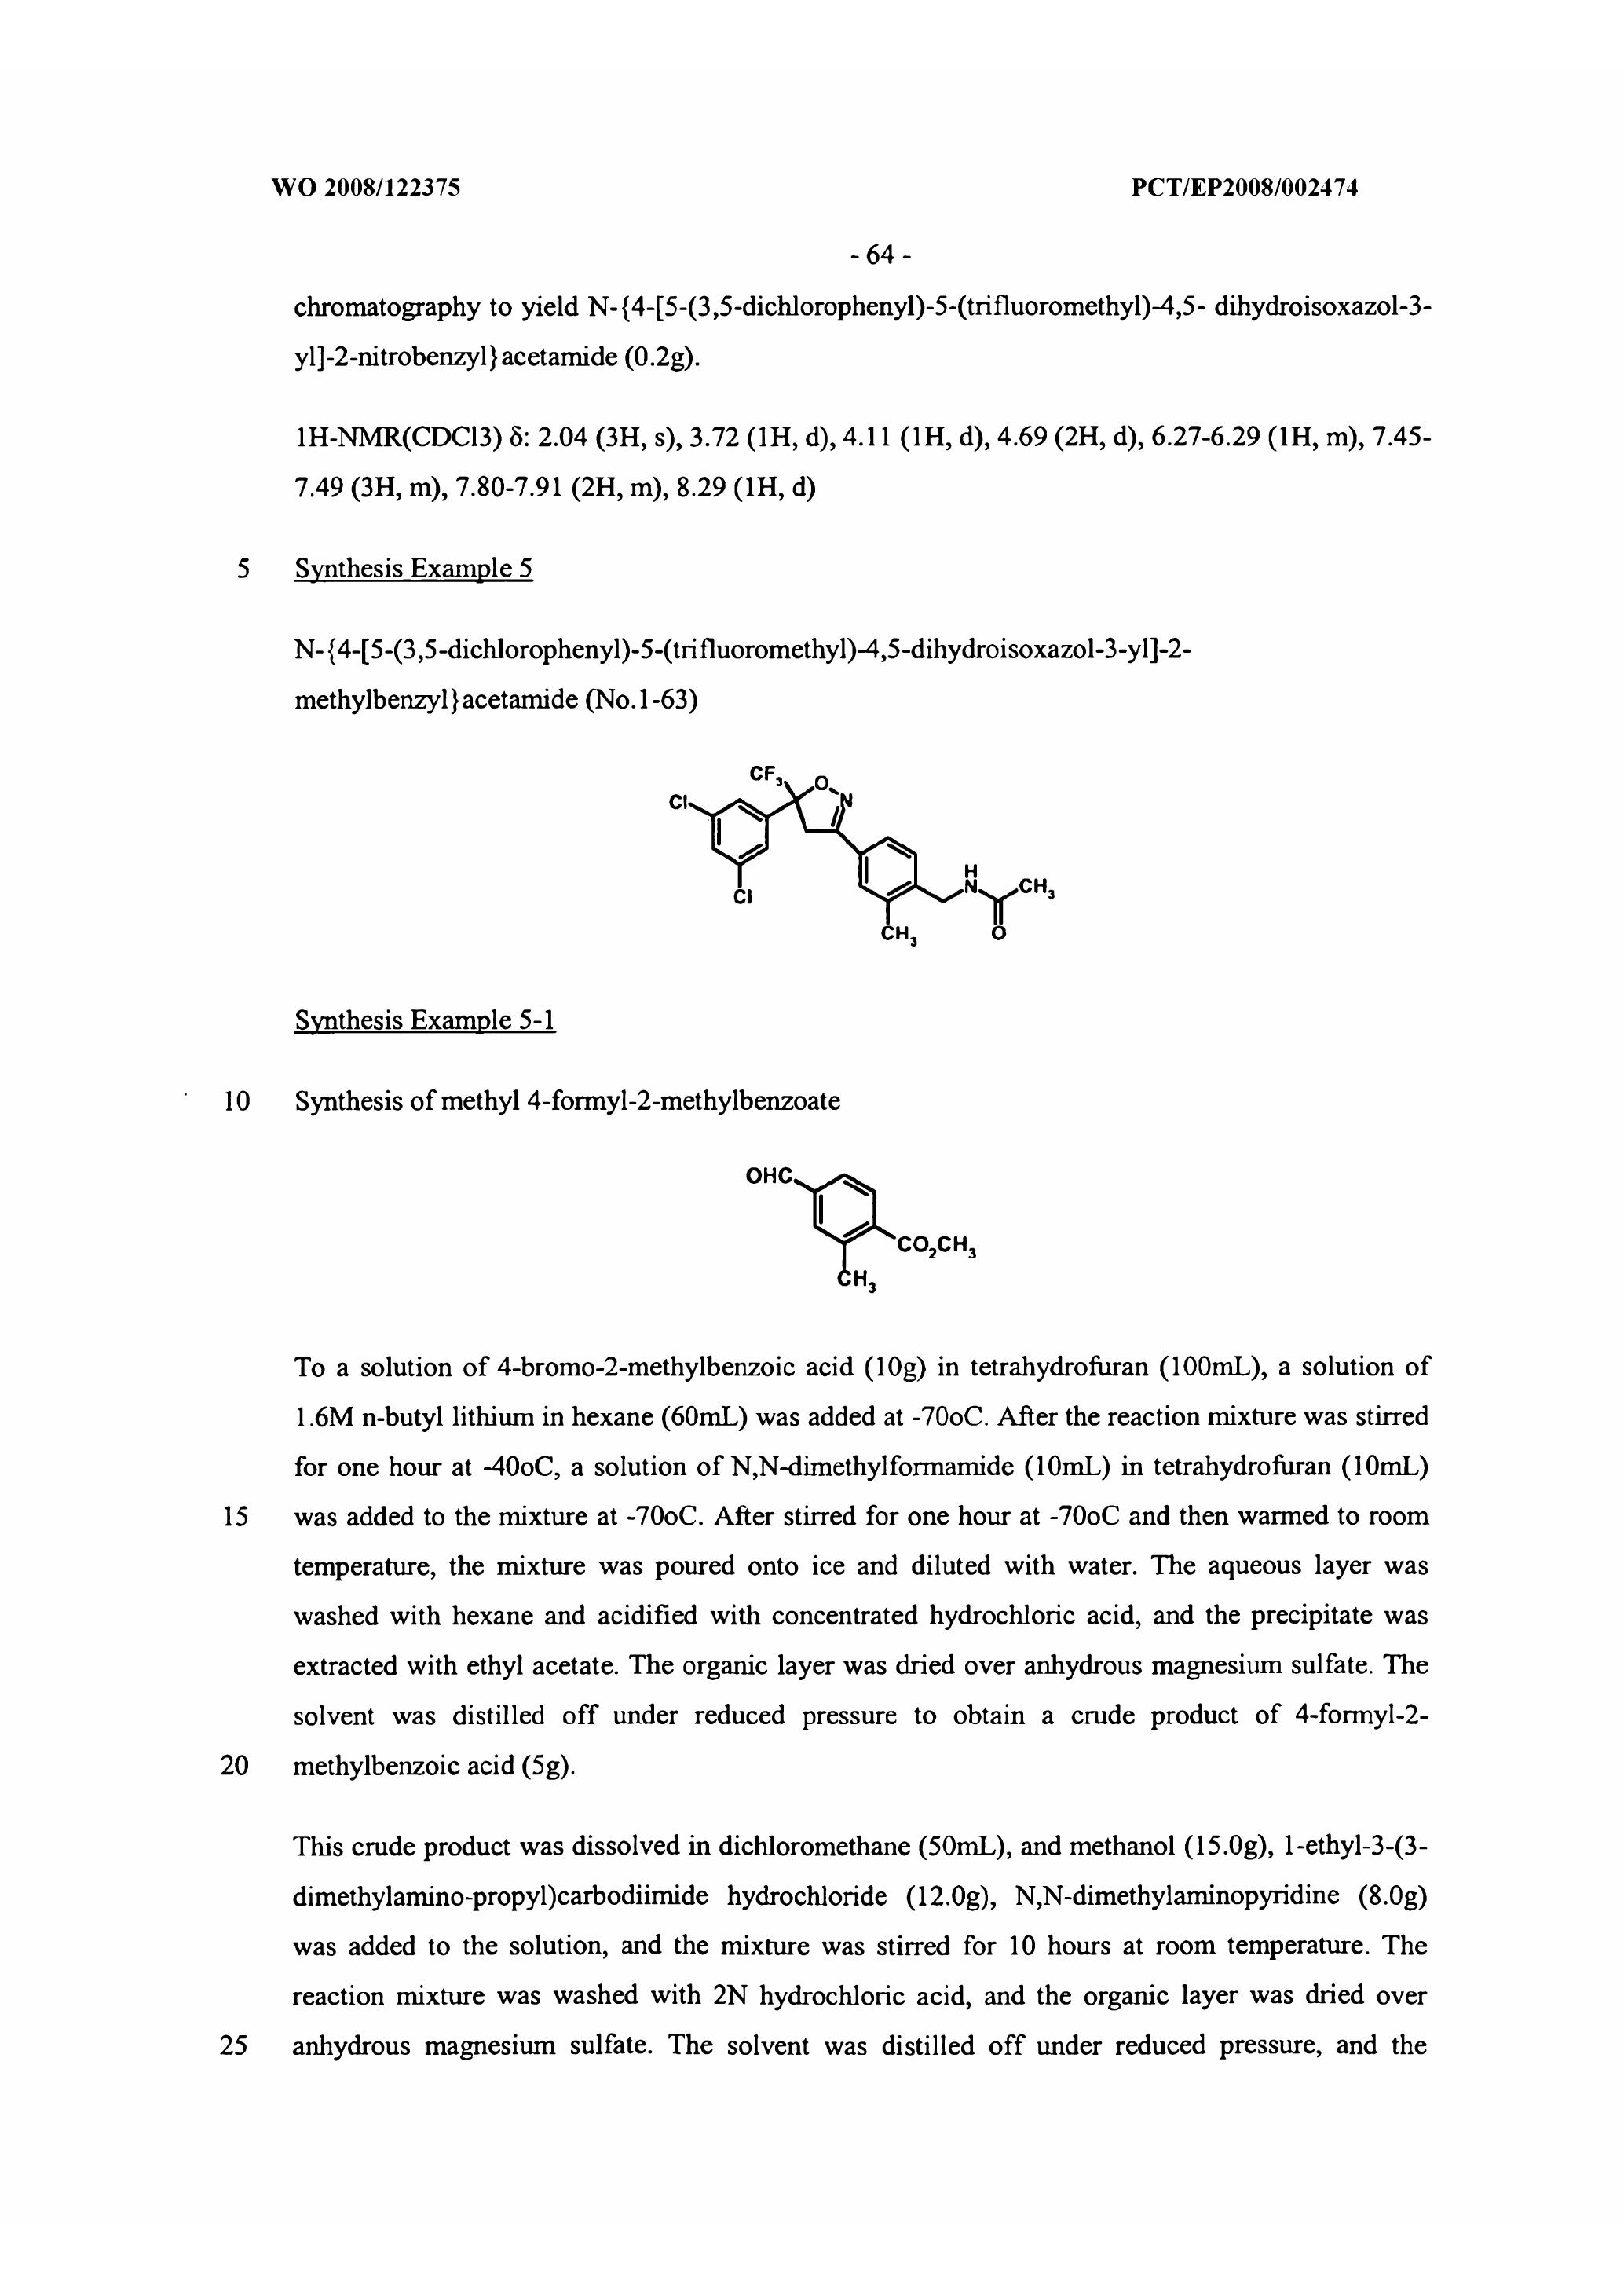intermediates: (705, 1129, 1058, 1329)
relevant-structures: (620, 745, 1183, 1013)
